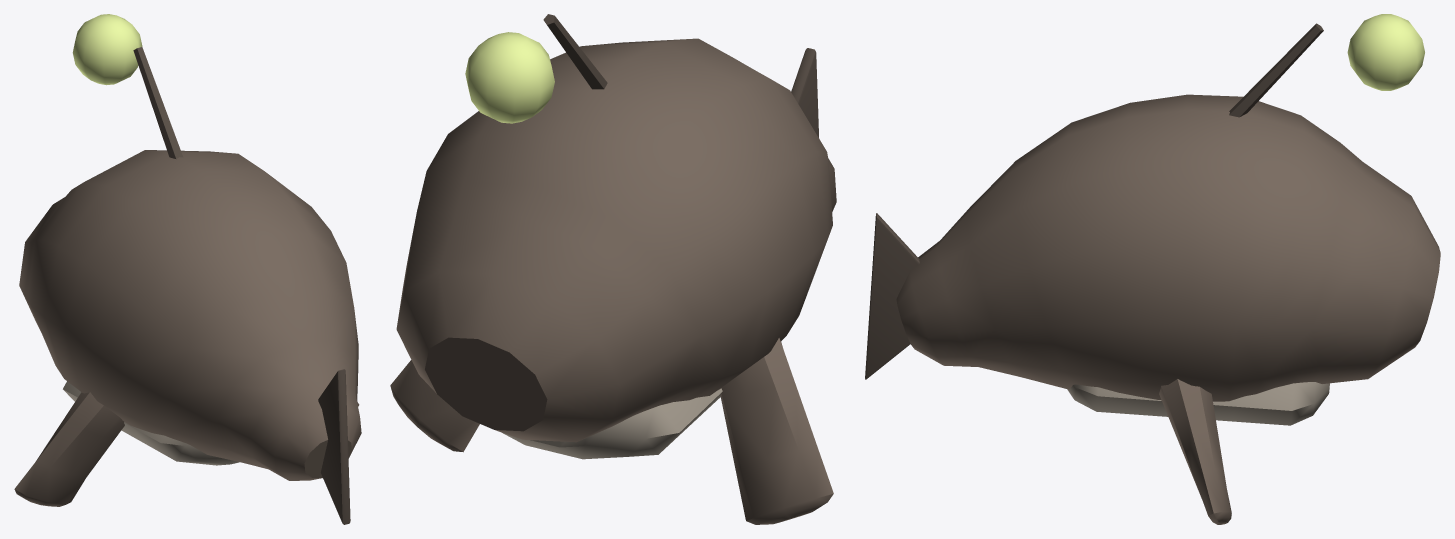
Rendered from sea_lanternfry.gltf.
3 views of the same model, side by side, from view 1: azimuth 30°, elevation 25°; view 2: azimuth 150°, elevation 25°; view 3: azimuth 270°, elevation 25° (orthographic). The views are drawn at different scales.
Parts seen in each view (by area): view 1: Body, Lure; view 2: Body, Lure; view 3: Body, Lure.
Part boxes in pixels (bbox=[...]): Body: bbox=[14, 150, 361, 524]; Lure: bbox=[72, 14, 183, 158]; Body: bbox=[390, 38, 836, 524]; Lure: bbox=[465, 14, 607, 123]; Body: bbox=[865, 94, 1440, 524]; Lure: bbox=[1229, 14, 1424, 117].
Bounding box in the file's own units: 0.782 × 0.8773 × 1.04.
